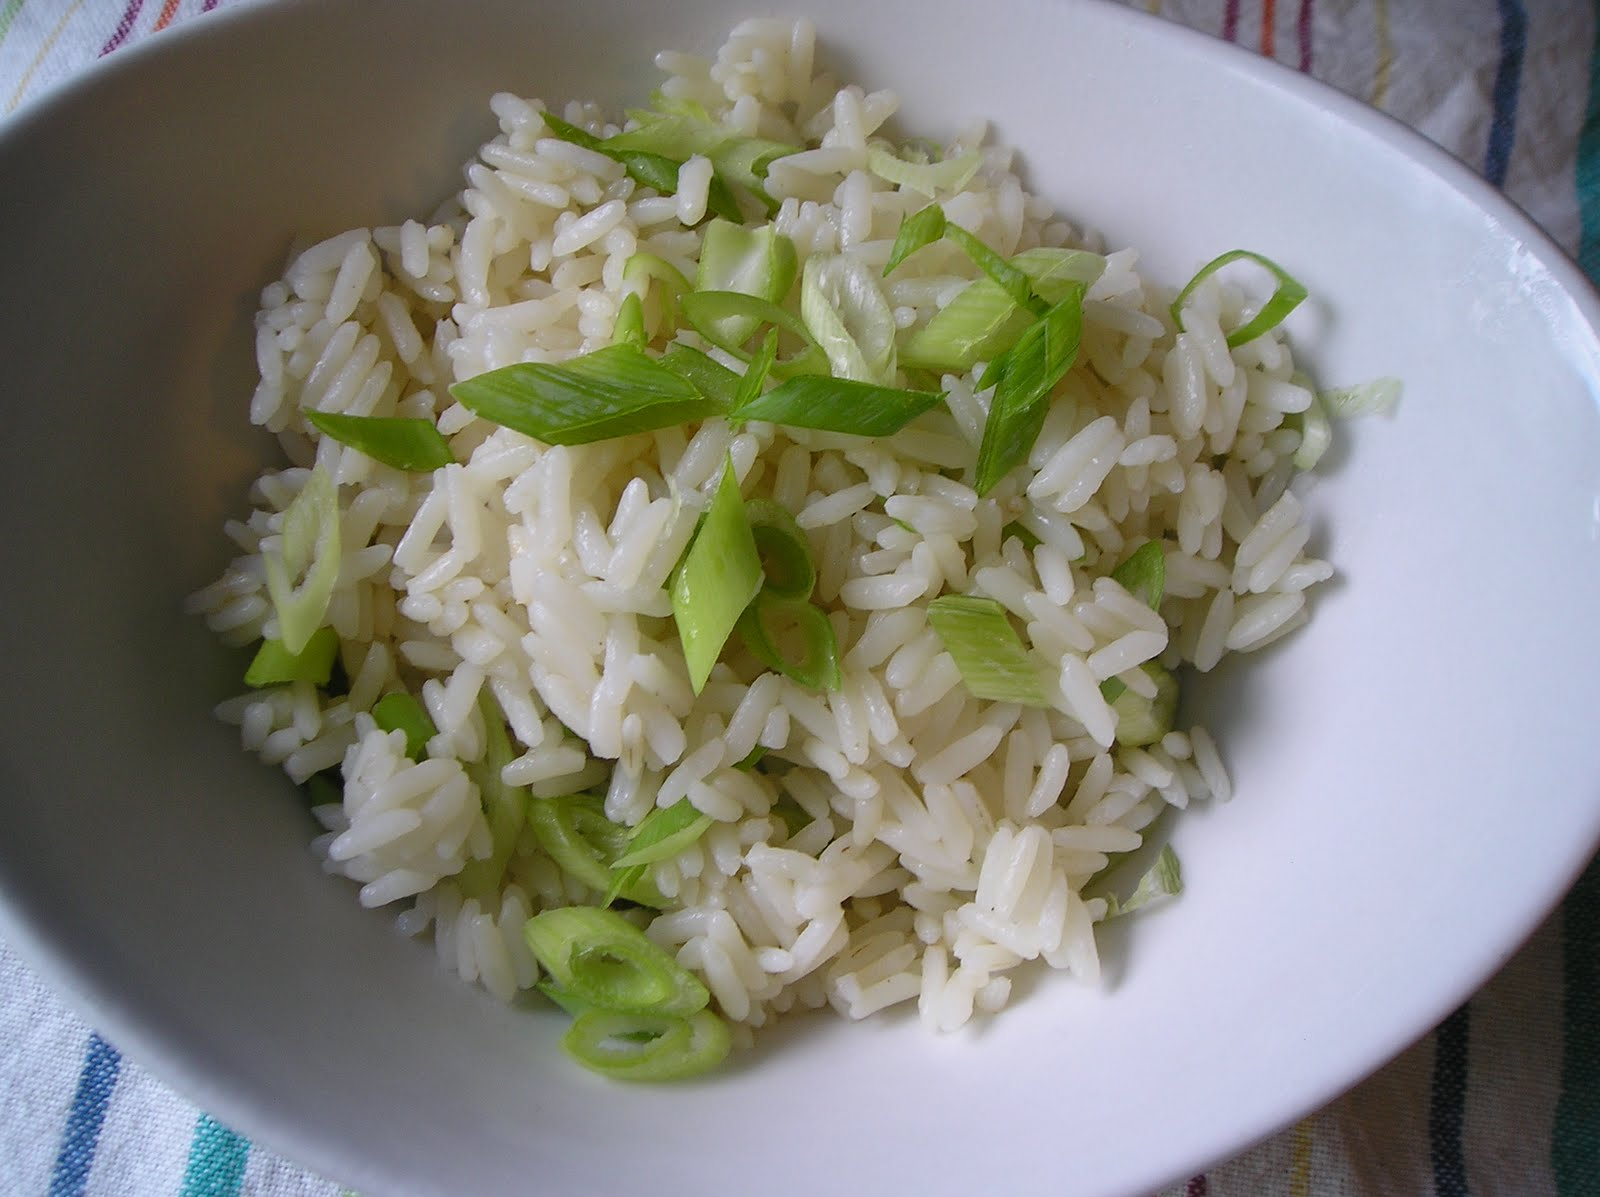plain rice: (416, 417, 1188, 986)
